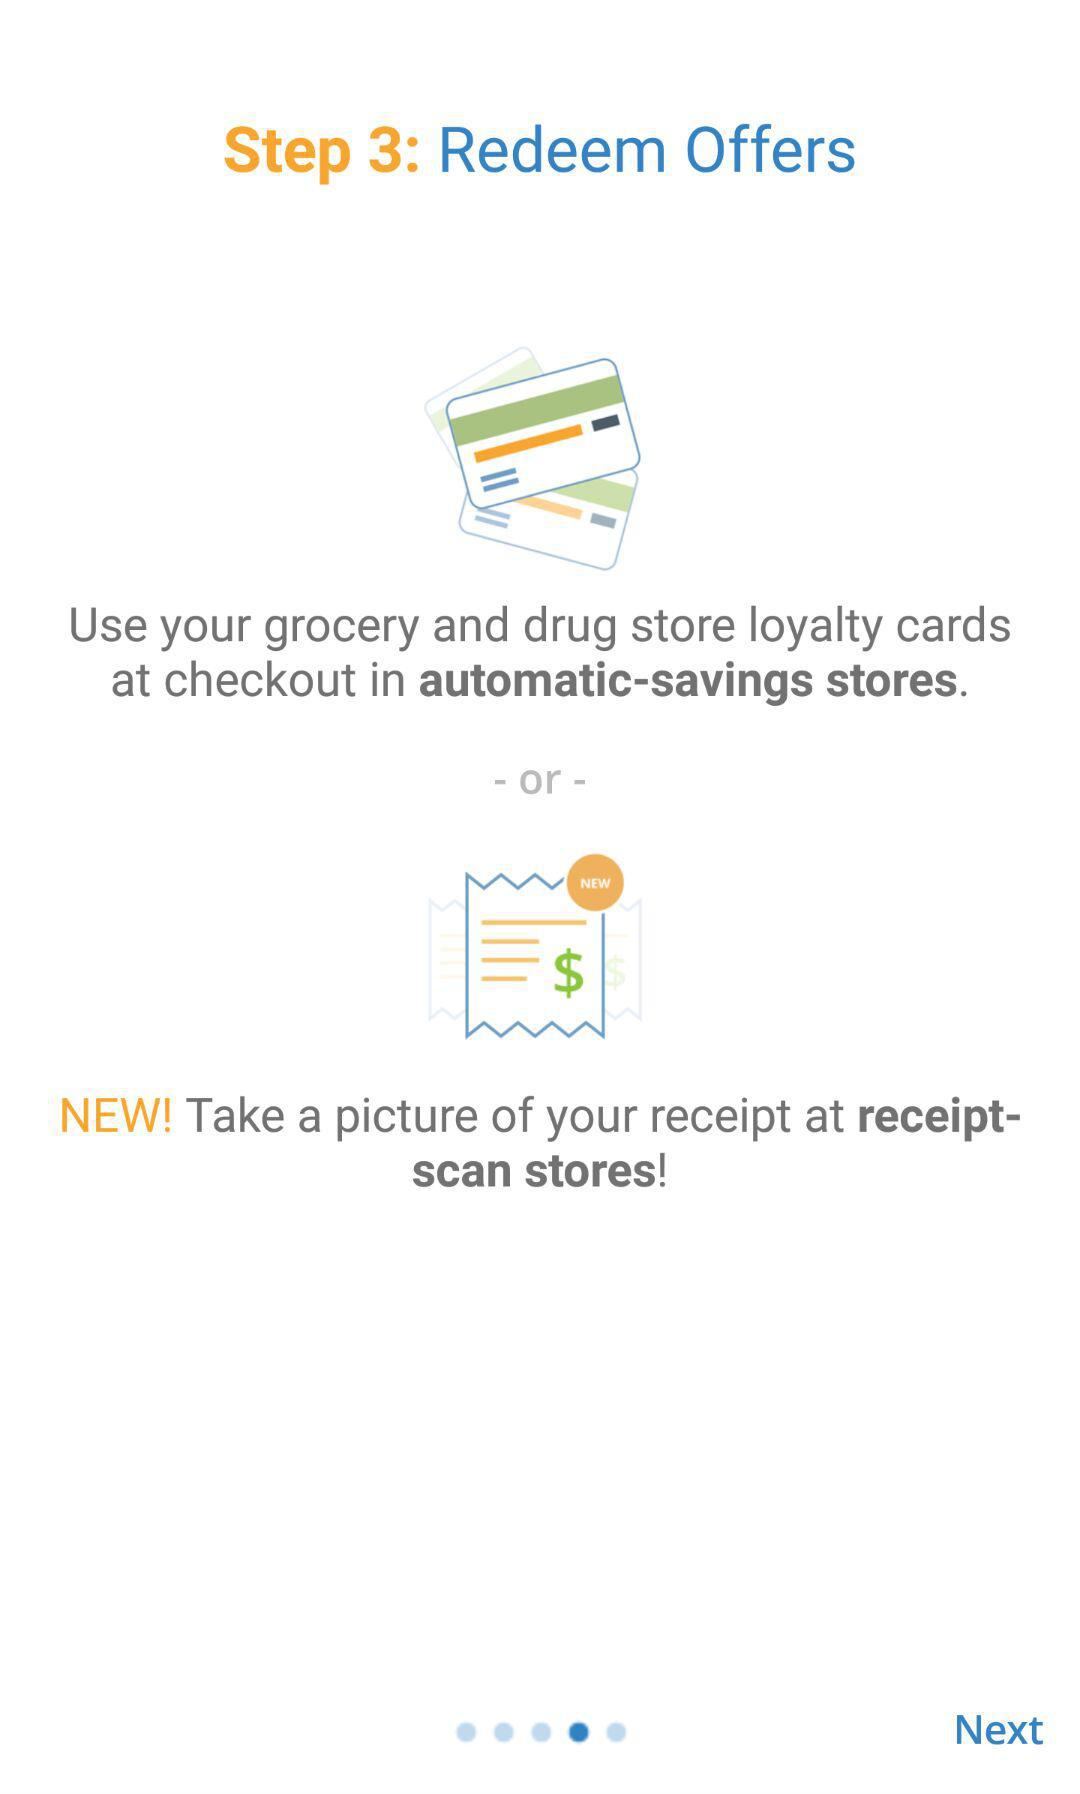Image: (421, 343, 641, 572), (424, 850, 653, 1044)
PageIndicator: (455, 1720, 629, 1744)
Text: (64, 602, 1013, 711), (60, 1094, 1025, 1193), (223, 126, 860, 185), (951, 1709, 1051, 1752), (520, 768, 562, 796)
